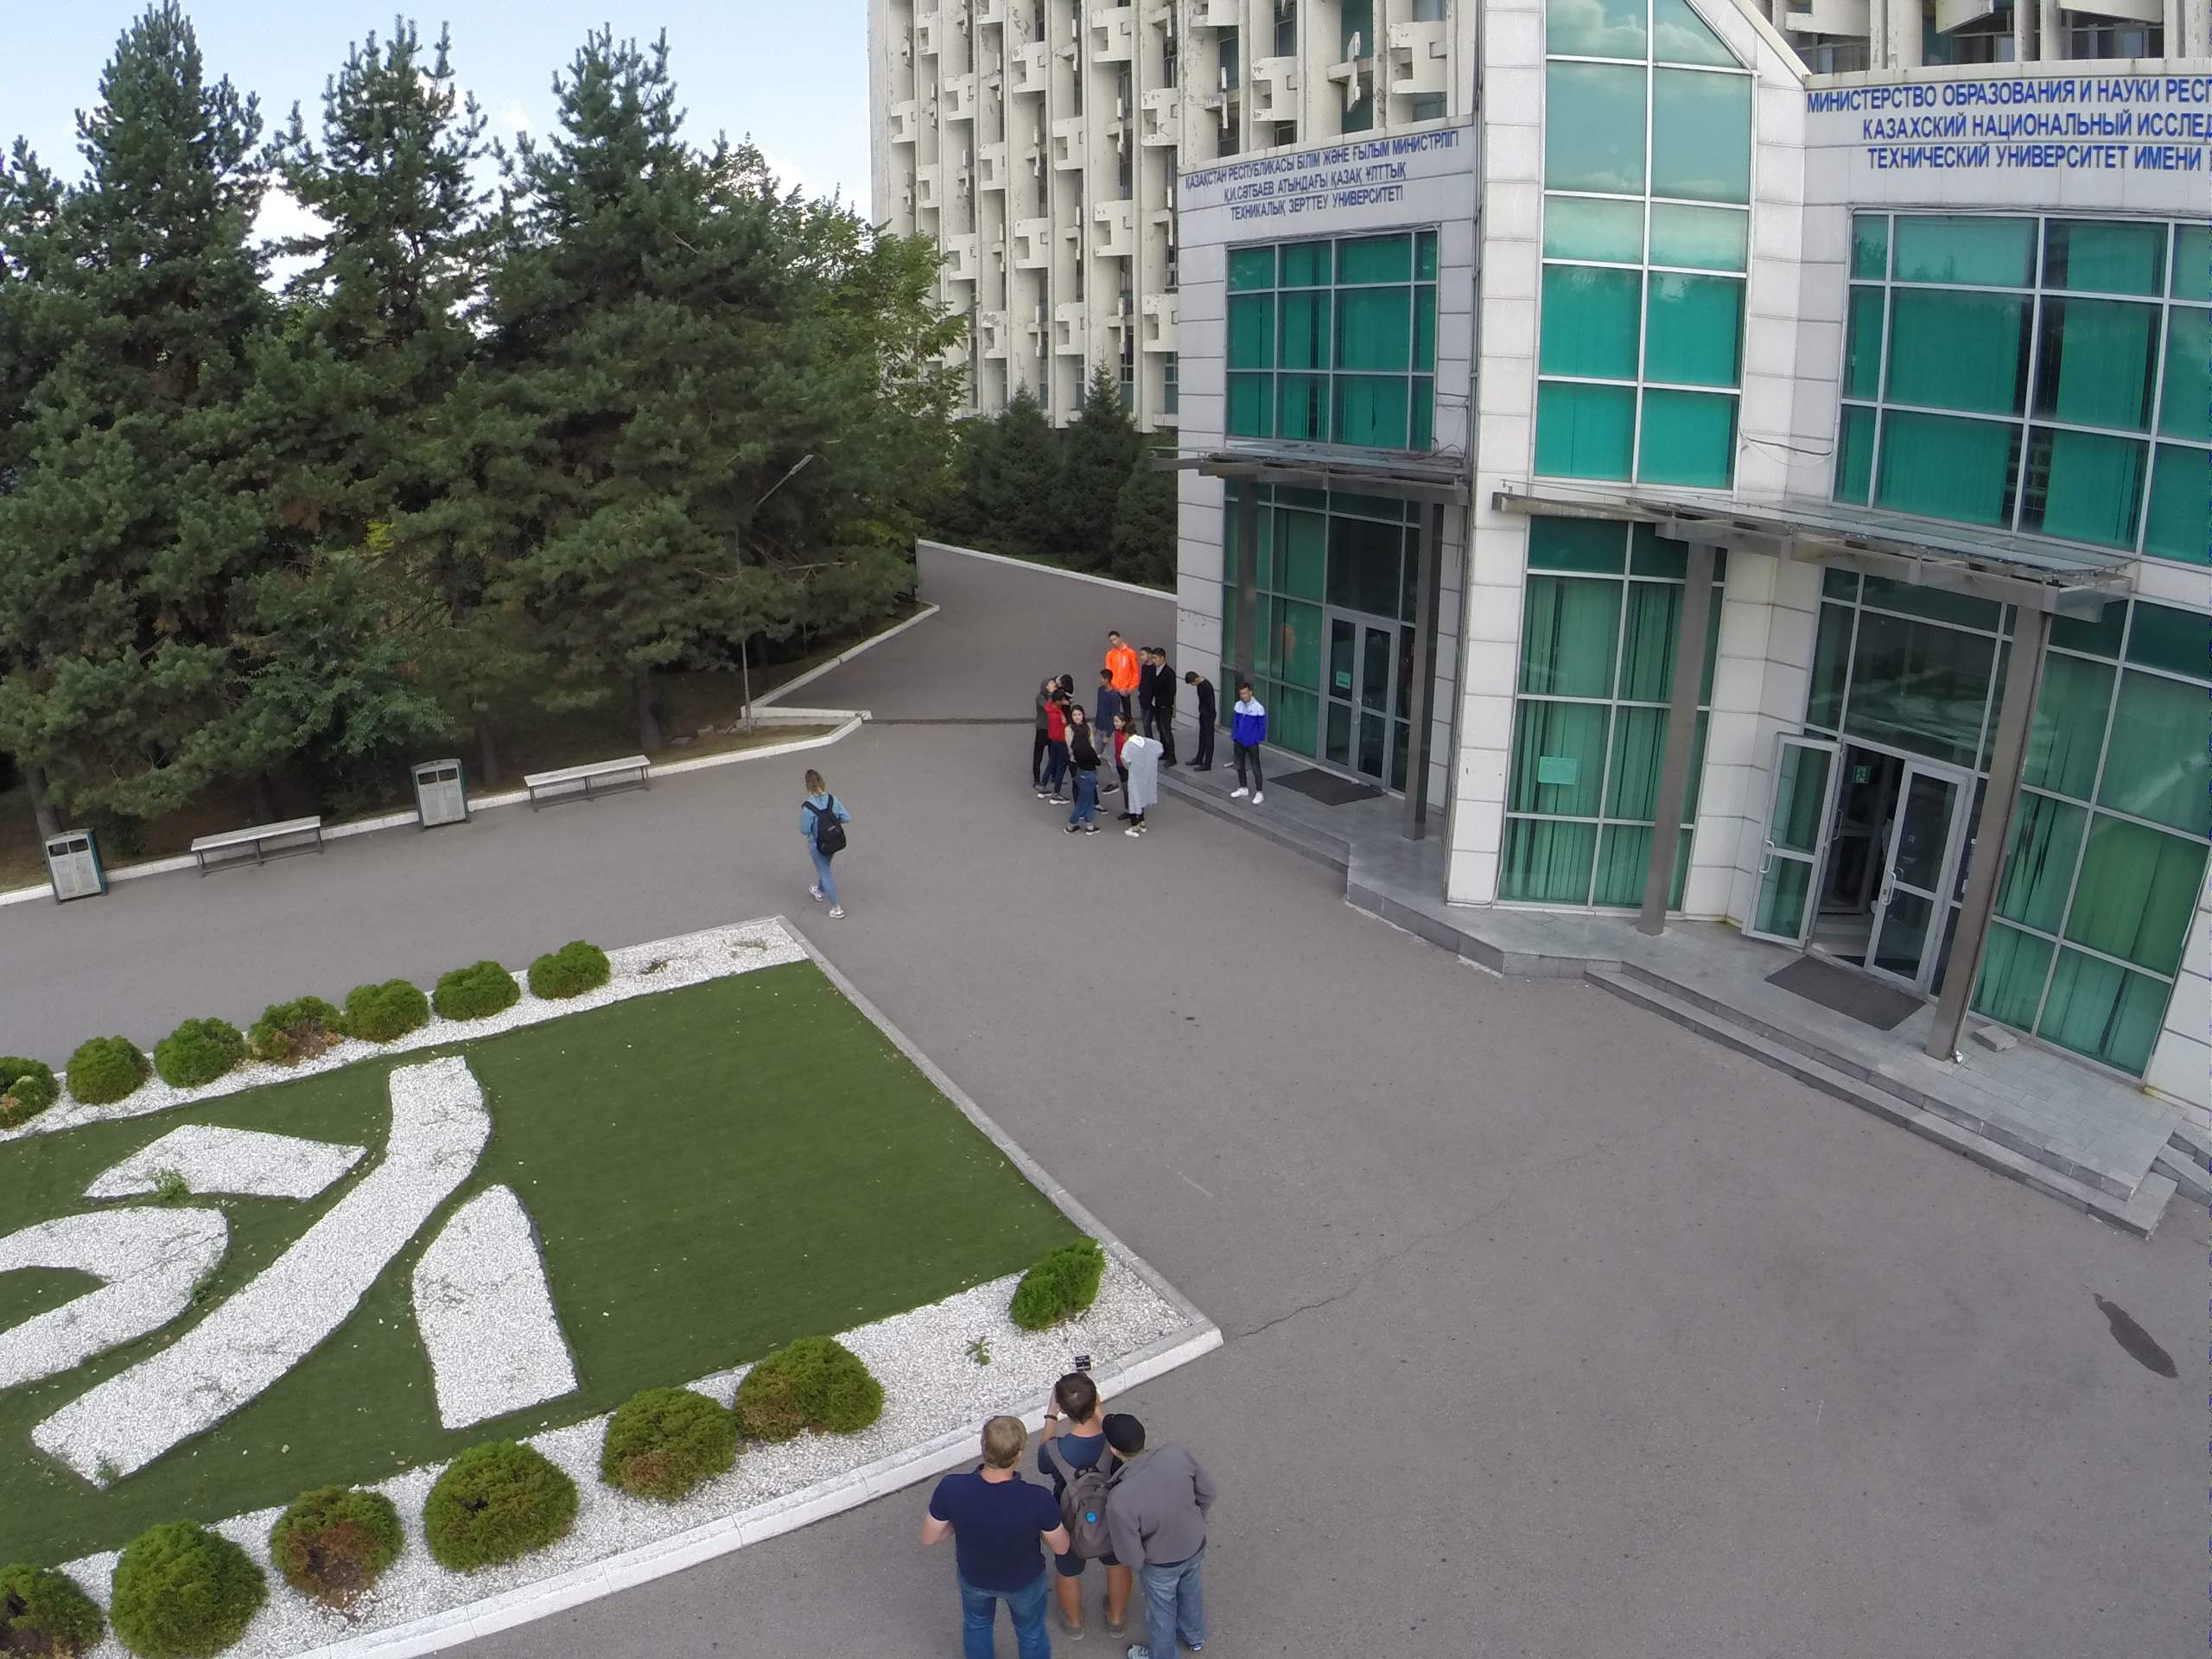person: (925, 1413, 1071, 1659), (1102, 1411, 1211, 1659), (1051, 1365, 1130, 1638), (798, 766, 848, 923), (1227, 681, 1268, 806), (1120, 724, 1163, 836), (1064, 724, 1102, 836), (1183, 669, 1219, 773), (1042, 692, 1071, 806), (1031, 677, 1059, 787), (1151, 647, 1179, 728), (1102, 631, 1135, 681), (1093, 667, 1119, 722)
